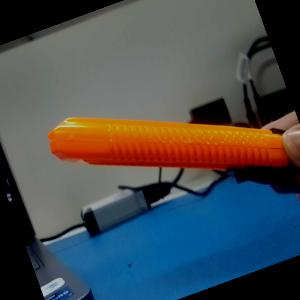estilete: (41, 46, 300, 255)
